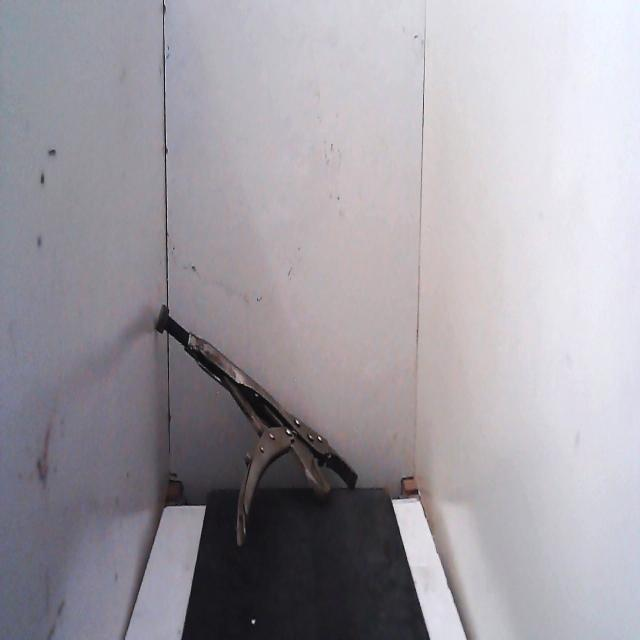metal: (152, 286, 366, 565)
